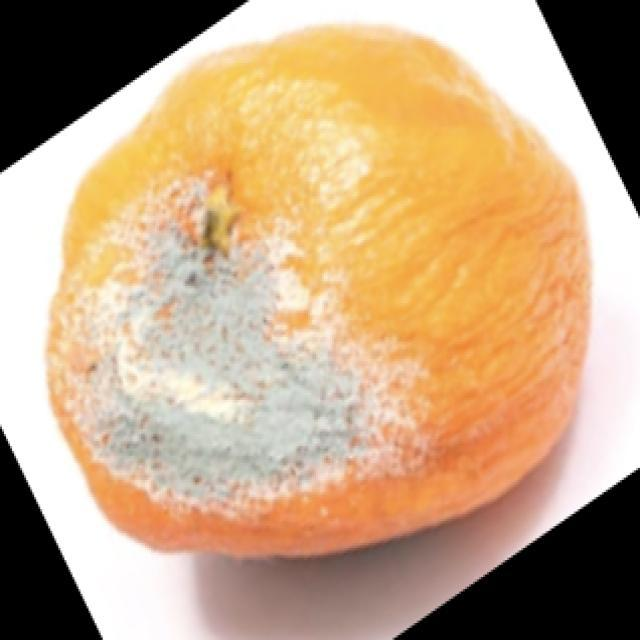sedikit-busuk: (47, 28, 590, 554), (48, 180, 383, 511)
